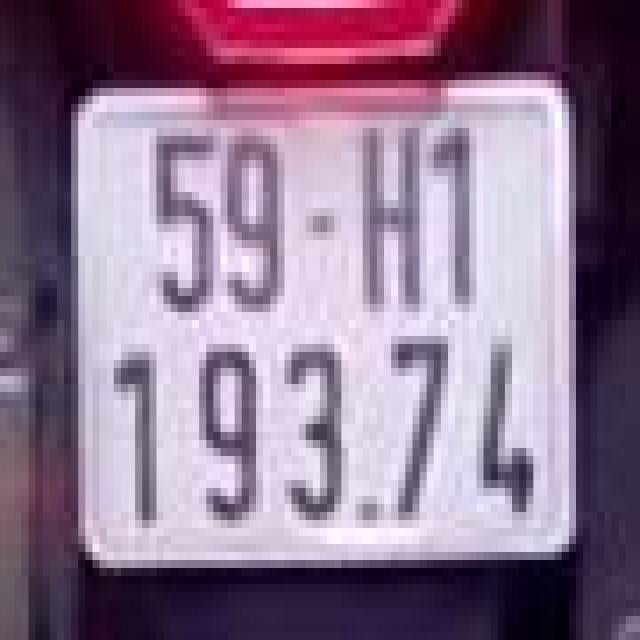1: (114, 336, 170, 536), (434, 124, 491, 316)
3: (281, 340, 352, 532)
4: (473, 332, 544, 524)
5: (142, 120, 220, 320)
7: (381, 328, 452, 536)
9: (217, 116, 295, 316), (192, 332, 263, 532)
H: (359, 124, 430, 316)
